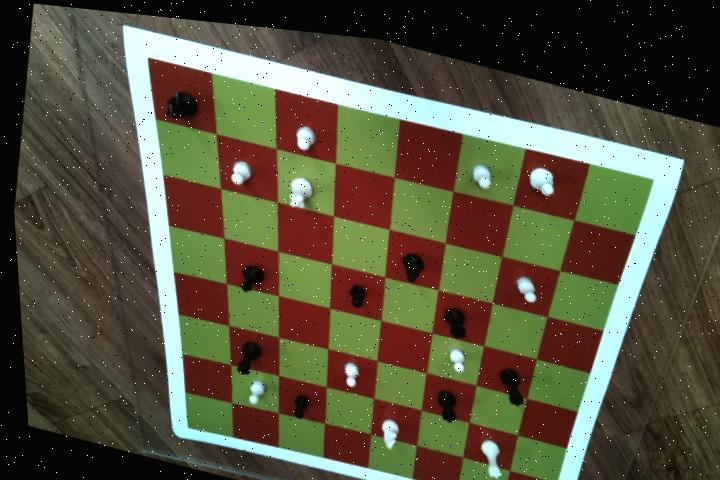chessboard-detect: (146, 56, 652, 480)
